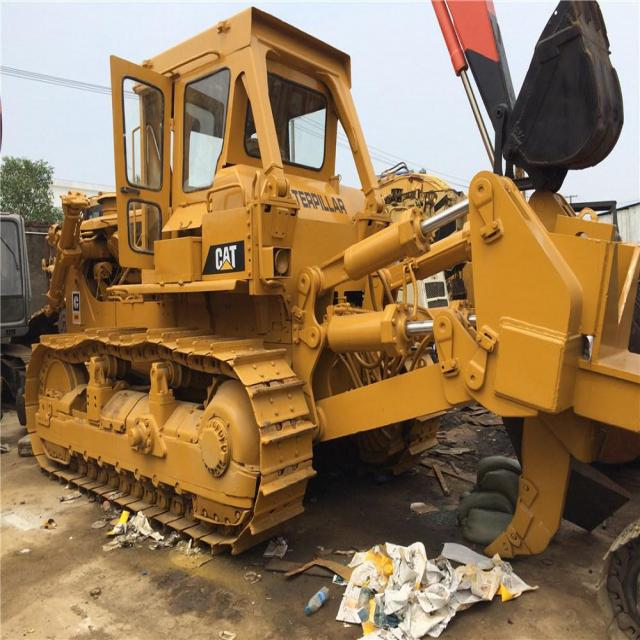Bulldozer: (31, 9, 640, 569)
